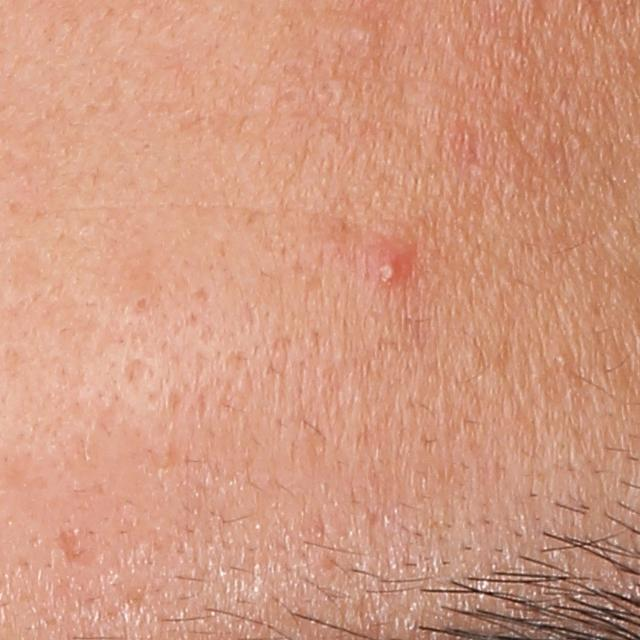atrophic_scar: (52, 530, 84, 561), (124, 356, 145, 390)
pustule: (371, 244, 405, 289)
